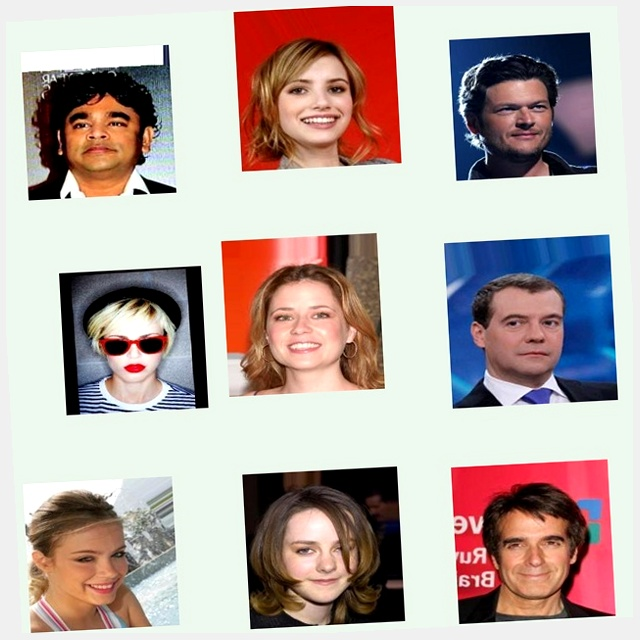celeb_10002: (0, 453, 157, 609)
celeb_1212: (471, 56, 619, 204)
celeb_2336: (427, 481, 592, 640)
celeb_2619: (443, 257, 617, 431)
celeb_2970: (259, 5, 426, 173)
celeb_4422: (219, 466, 382, 629)
celeb_4428: (222, 232, 386, 396)
celeb_7: (43, 23, 199, 179)
celeb_797: (58, 247, 208, 396)
